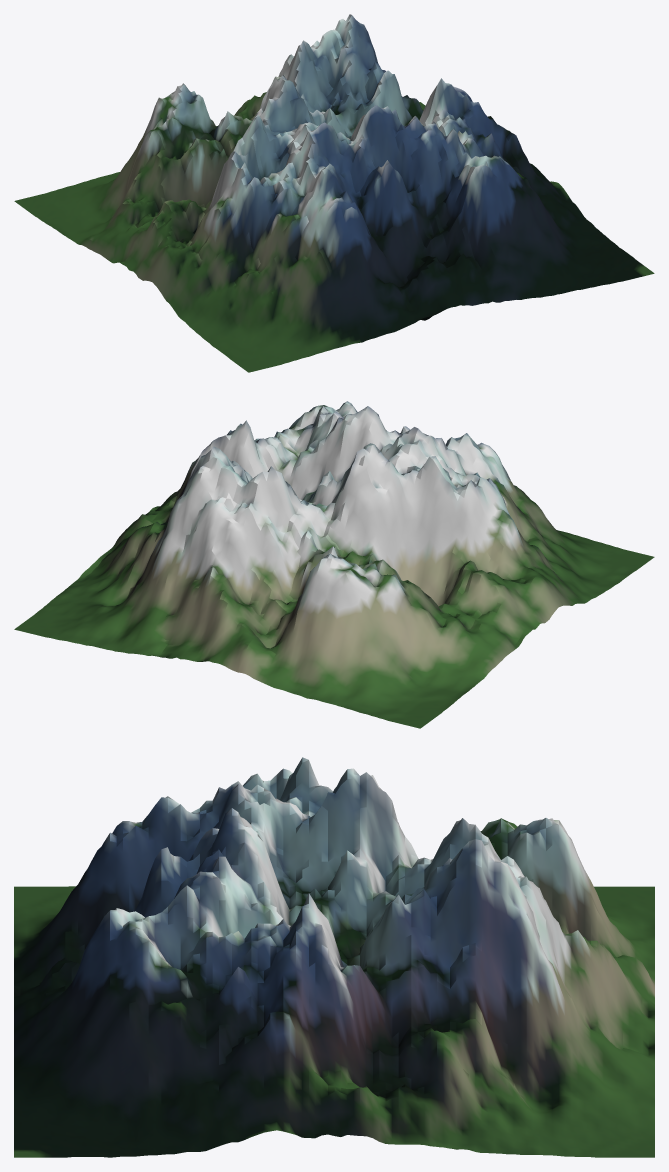
File: castle_mountain_backdrop.obj
3 views of the same model, one above another, from view 1: azimuth 30°, elevation 25°; view 2: azimuth 150°, elevation 25°; view 3: azimuth 270°, elevation 25° (orthographic). The views are drawn at different scales.
Parts seen in each view (by area): view 1: Plane; view 2: Plane; view 3: Plane.
Part boxes in pixels (<box>): Plane: <box>14,14,654,372</box>; Plane: <box>14,401,654,728</box>; Plane: <box>14,757,654,1157</box>.
Bounding box in the file's own units: 200 × 78.9 × 200.
